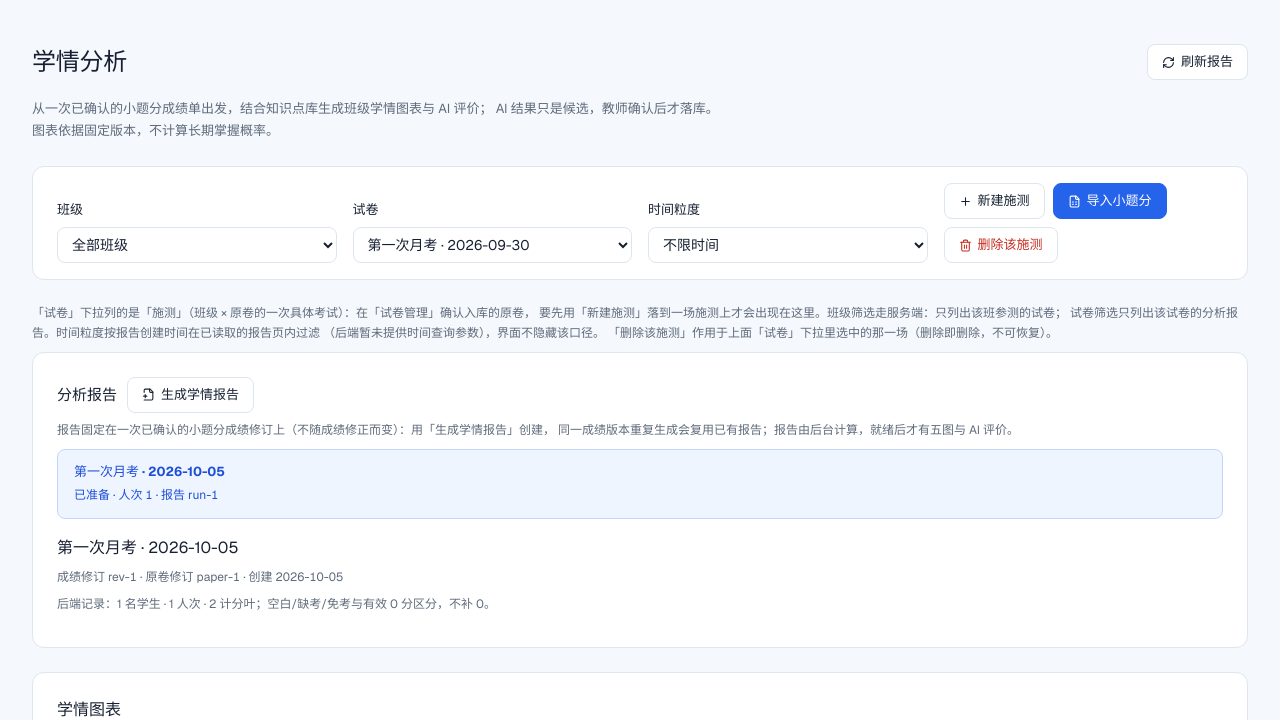
Scenario: 学情分析：删除施测（R10-BE 施测=成绩链所有者） › 乐观锁 409 走普通错误区（不伪装成引用问题）
Click the button with test id "la-assessment-delete": (1000, 245) [944, 227, 1058, 263]
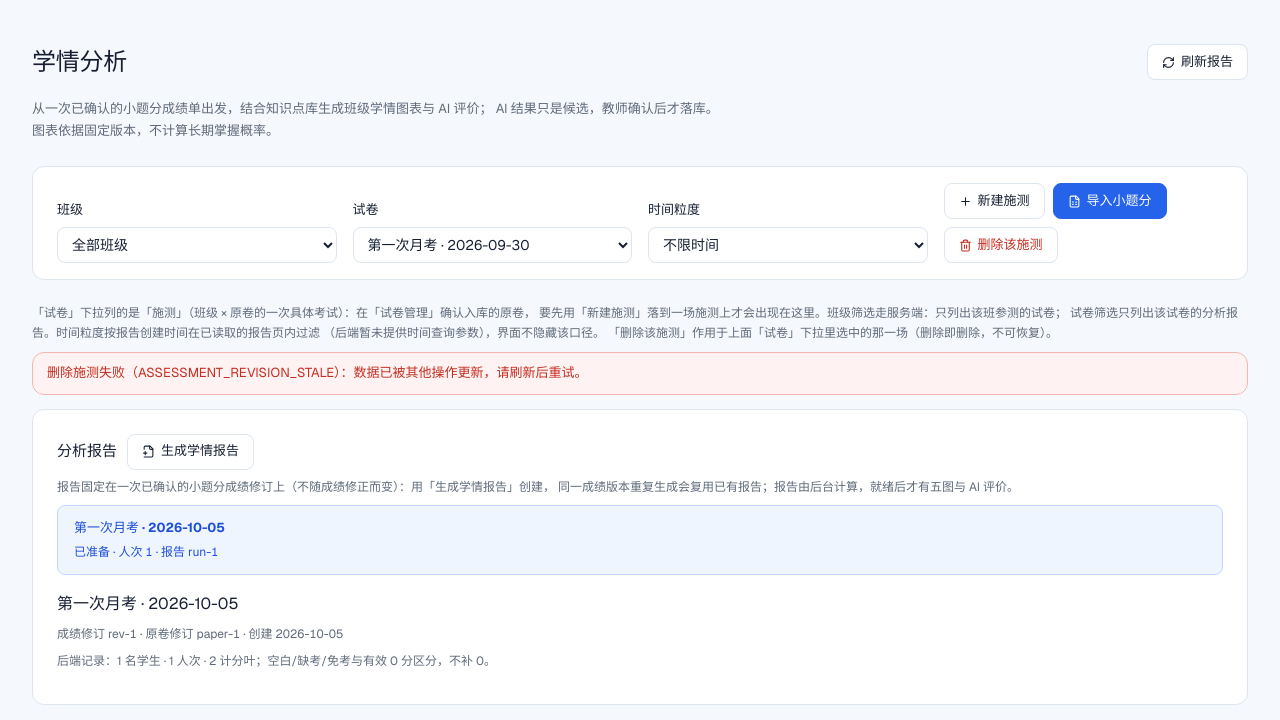
Result: the message with test id "la-assessment-delete-error" shows "删除施测失败（ASSESSMENT_REVISION_STALE）" at [47, 364, 588, 381]
